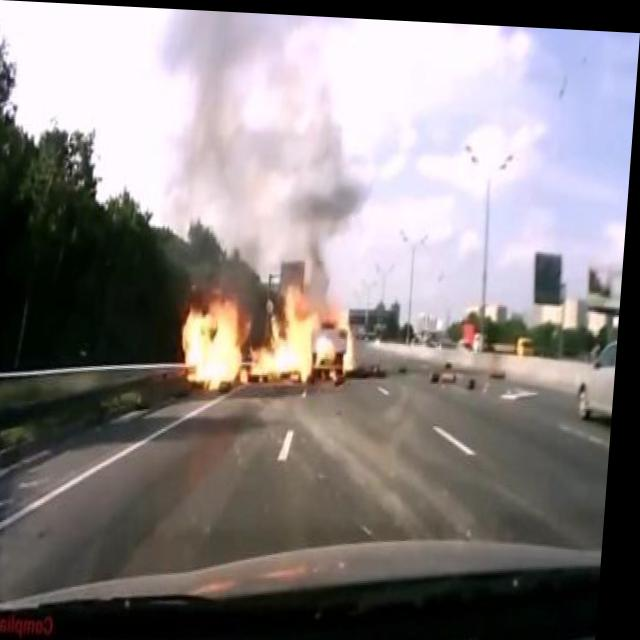fire: (180, 267, 328, 403), (338, 301, 366, 372)
